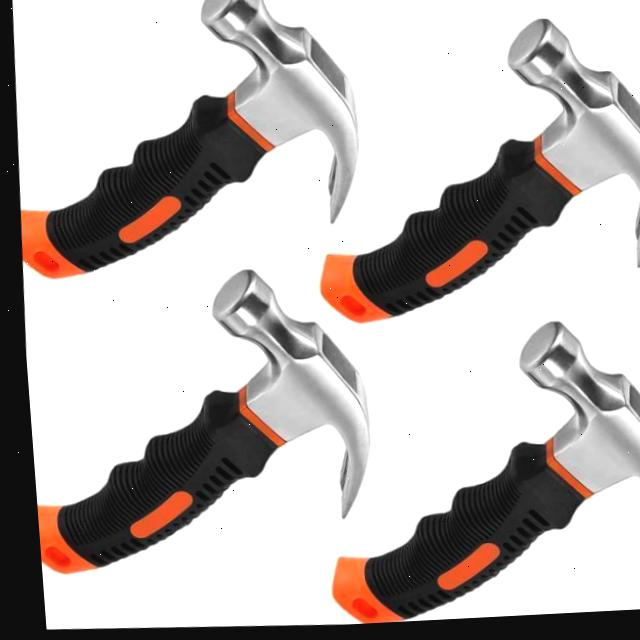hammer: (15, 247, 392, 629), (283, 0, 640, 375), (295, 285, 640, 629), (1, 0, 382, 294)
